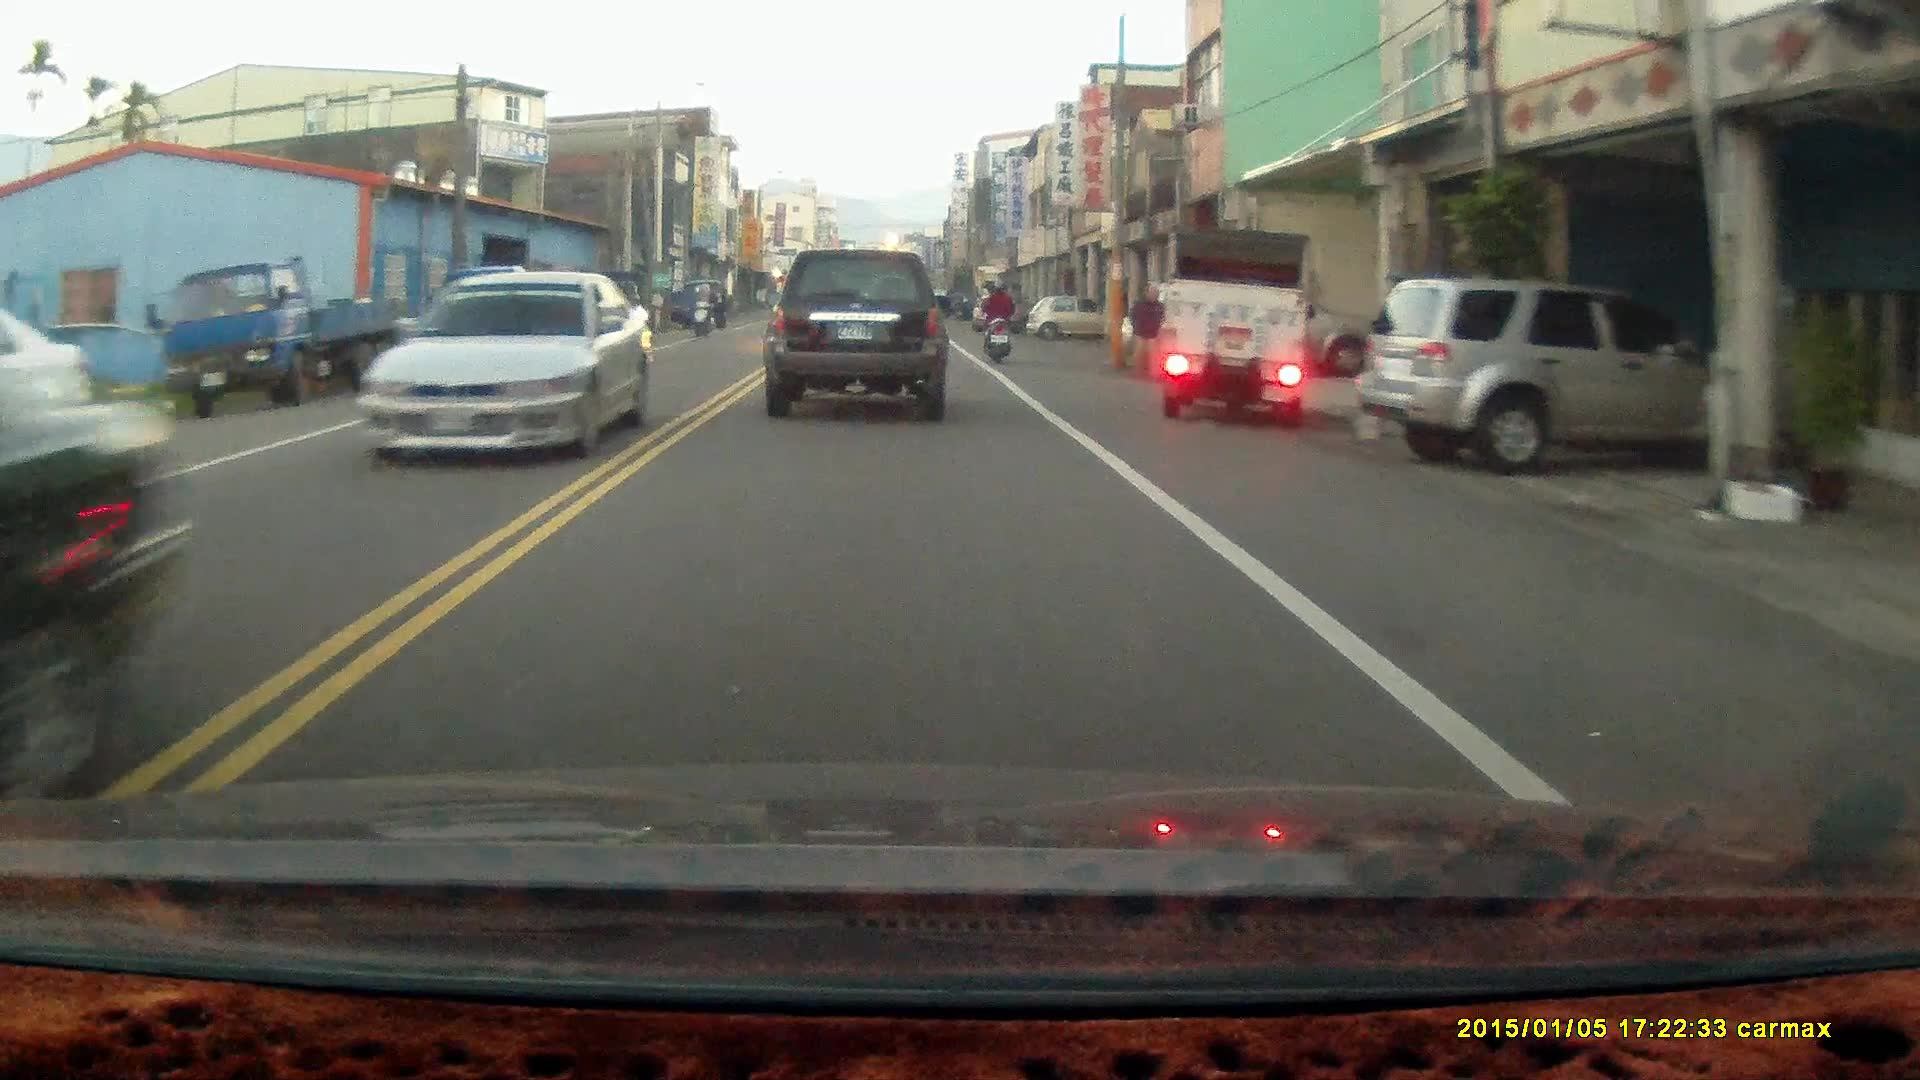pedestrian: (1128, 286, 1164, 383), (708, 281, 728, 331)
rider: (979, 281, 1015, 368), (689, 278, 719, 341)
vehicle: (1, 270, 193, 799), (1366, 279, 1735, 474), (353, 271, 649, 466), (160, 255, 389, 416), (766, 251, 952, 427), (1159, 229, 1316, 426), (1114, 277, 1370, 383), (1030, 297, 1105, 351)
